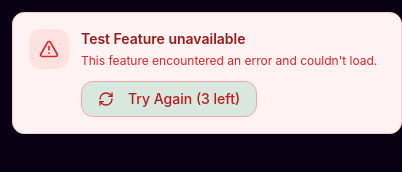
Test case: FeatureErrorBoundary › allows retry and decrements count
The width and height of the screenshot is (402, 172).
Note: Click retry
Click the button "Try Again (3 left)". click: (169, 99)
box: left=81, top=81, right=257, bottom=117
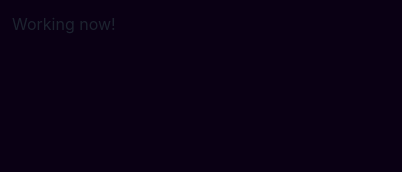
Expected: the text "Working now!" is shown, left=12, top=14, right=116, bottom=34
